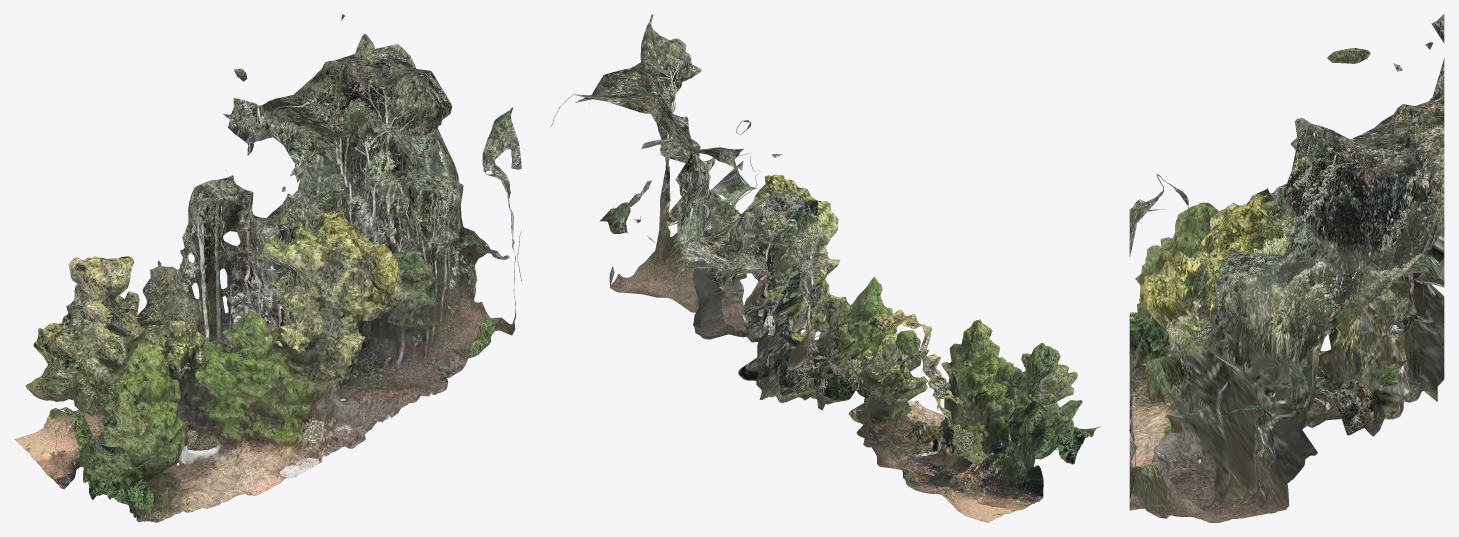
Rendered from BlockBBYA_L20_11.glb.
3 views of the same model, side by side, from view 1: azimuth 30°, elevation 25°; view 2: azimuth 150°, elevation 25°; view 3: azimuth 270°, elevation 25° (orthographic). The views are drawn at different scales.
Visible parts, largest first — view 1: rtc; view 2: rtc; view 3: rtc.
Part boxes in pixels (x1=…): rtc: x1=14, y1=14, x2=521, y2=522; rtc: x1=550, y1=14, x2=1100, y2=522; rtc: x1=1129, y1=14, x2=1444, y2=522.
Size of the model in its own units: 31.76 by 27.49 by 14.03.
Materials: 5 (5 with a texture image).
